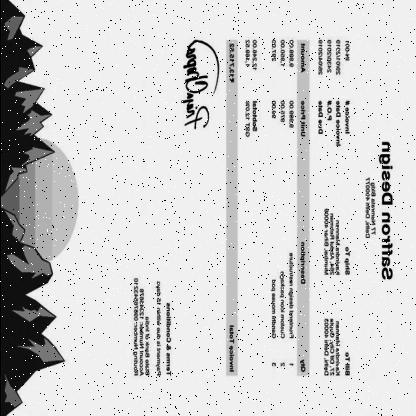Paragraph: (362, 139, 396, 283), (130, 276, 173, 380), (314, 36, 352, 150), (226, 40, 236, 374), (320, 206, 352, 280), (320, 315, 352, 380), (240, 38, 260, 142)
Table: (266, 38, 309, 376)
